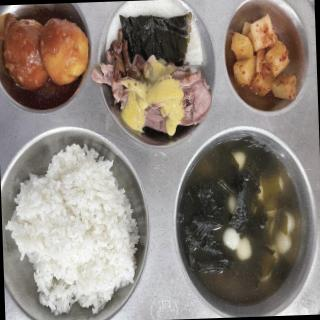Nasi: (10, 145, 143, 319)
